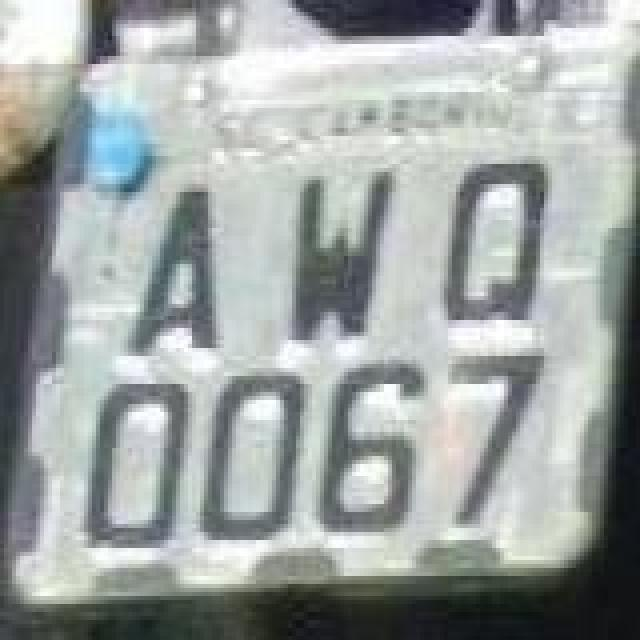6: (318, 358, 426, 538)
7: (446, 350, 546, 530)
A: (122, 186, 214, 358)
O: (198, 370, 306, 542), (84, 378, 188, 550)
Q: (444, 158, 548, 322)
W: (292, 170, 396, 342)
